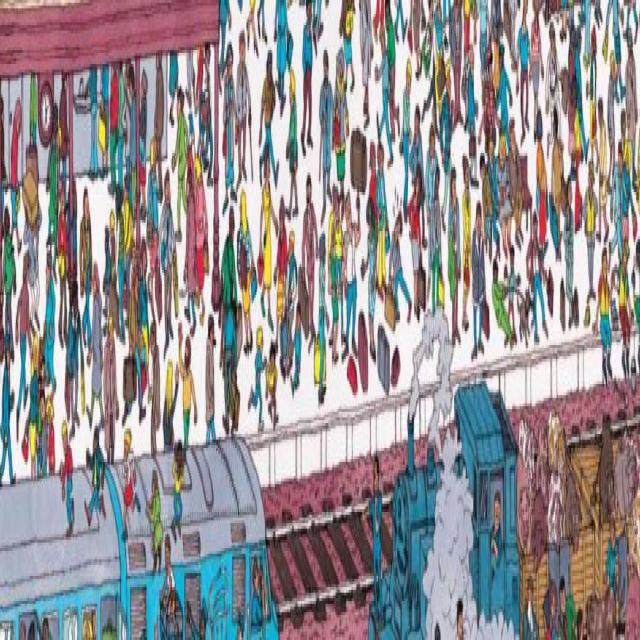waldo: (487, 44, 493, 84)
